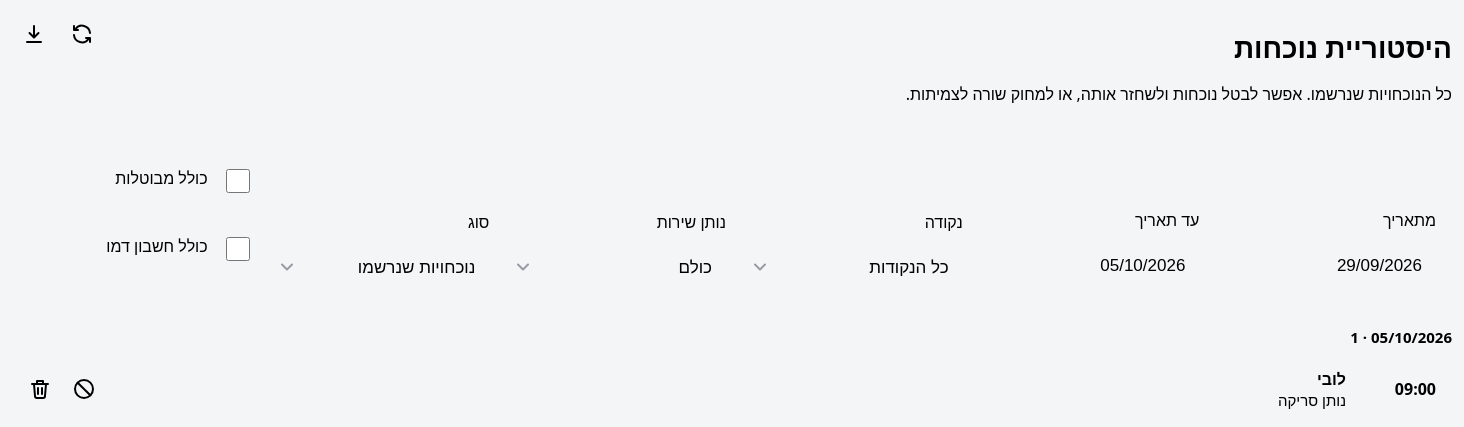
it: a row of a visit that was not counted › shows the time of the server, the point, the provider, the reason and how the visit arrived
Check: the text "נותן סריקה" is shown, box 1278,390 -> 1346,410
Select "לא נקלטו" in the dropdown labelled "סוג" at (377, 267), box 265,241 -> 489,293
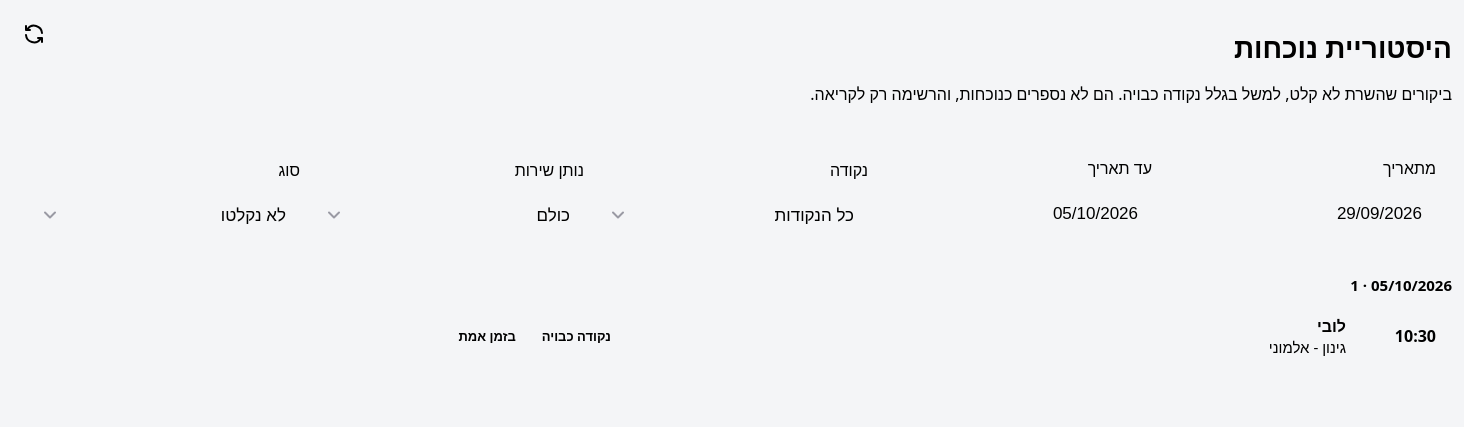
Check: the text "10:30" is shown, box 1395,325 -> 1436,347
Check: the text "נקודה כבויה" is shown, box 542,327 -> 611,345
Check: the text "בזמן אמת" is shown, box 458,327 -> 516,345
